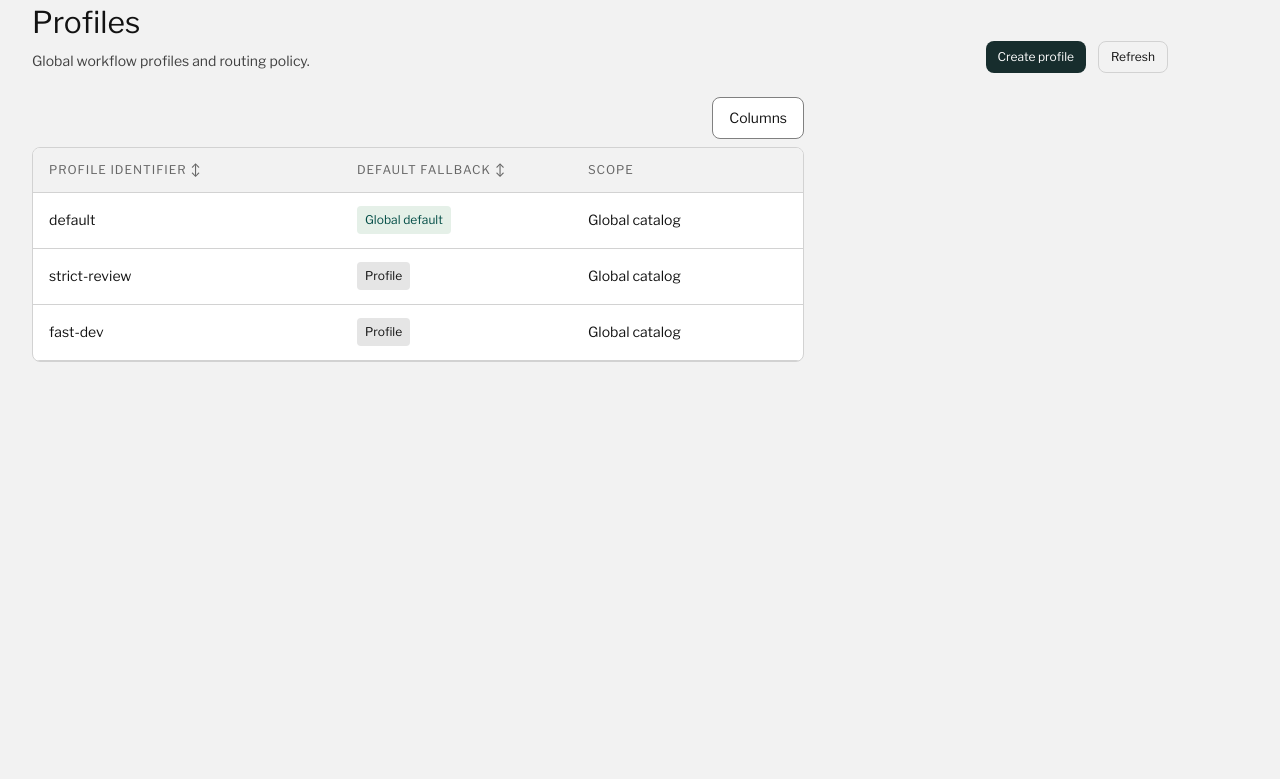
it: Profiles screen › opens profile editor in edit mode with immutable identifier and preserves inherited policies
Expected: the text "fast-dev" is shown, [49,323,104,340]
Click row to select and open Inspector
Click the text "fast-dev". click: click(418, 332)
box: [33,304,803,360]
(page scrolled)
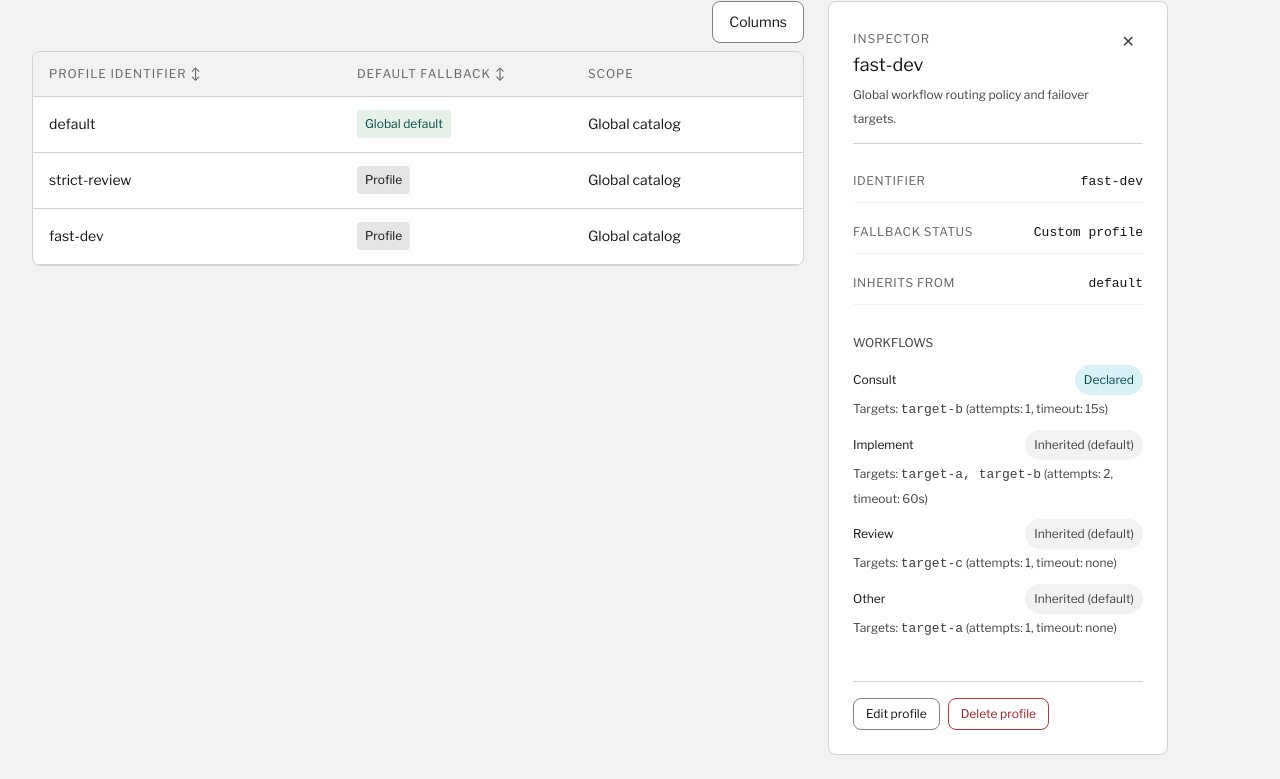
Click the button "Edit profile". click: click(896, 714)
box: [853,698,940,730]
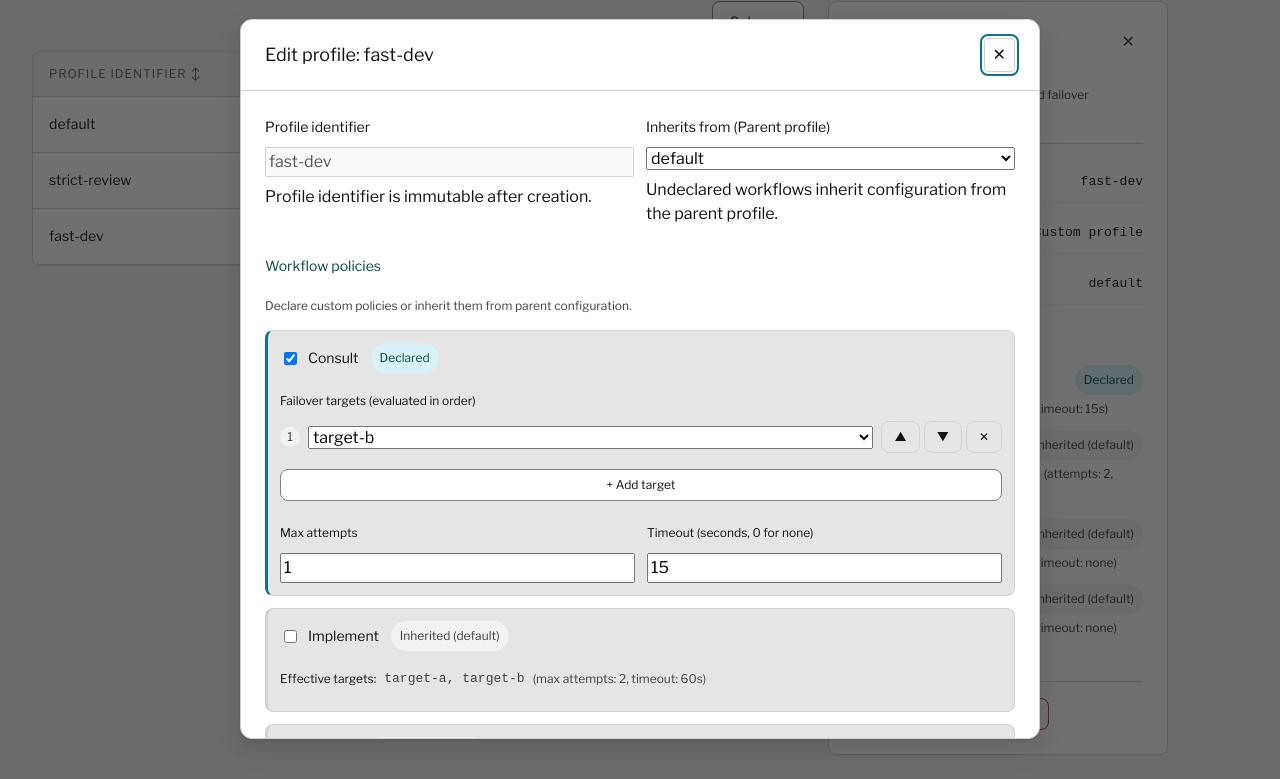
Expected: the dialog "Edit profile: fast-dev" is shown, [240,19,1040,739]
Expected: the field labelled "Profile identifier" is disabled, [265,147,634,177]
Expected: the field labelled "Profile identifier" holds "fast-dev", [265,147,634,177]
Change parent to None
Select "(None - base profile)" in the dropdown labelled "Inherits from (Parent profile)". click: (830, 158)
box: [646,147,1015,170]
(page scrolled)
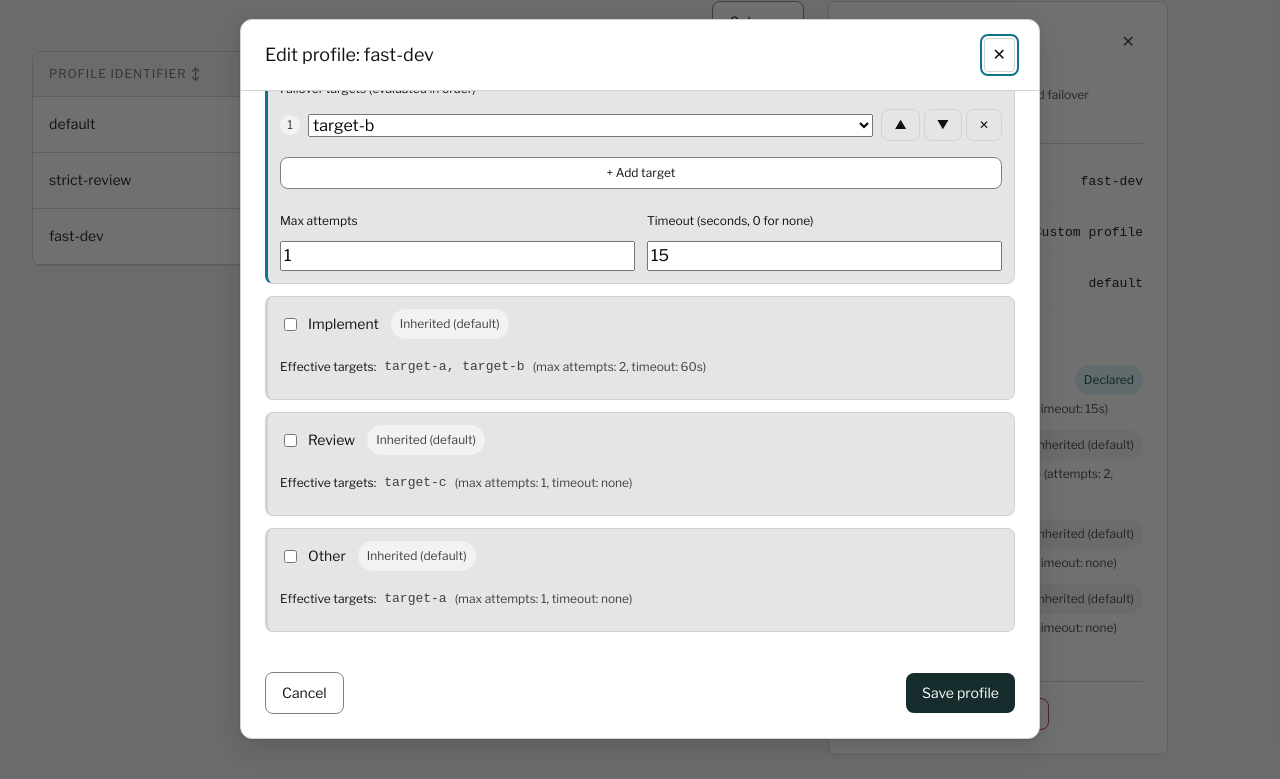
Click the button "Save profile". click: click(960, 693)
box: [906,673,1015,713]
(page scrolled)
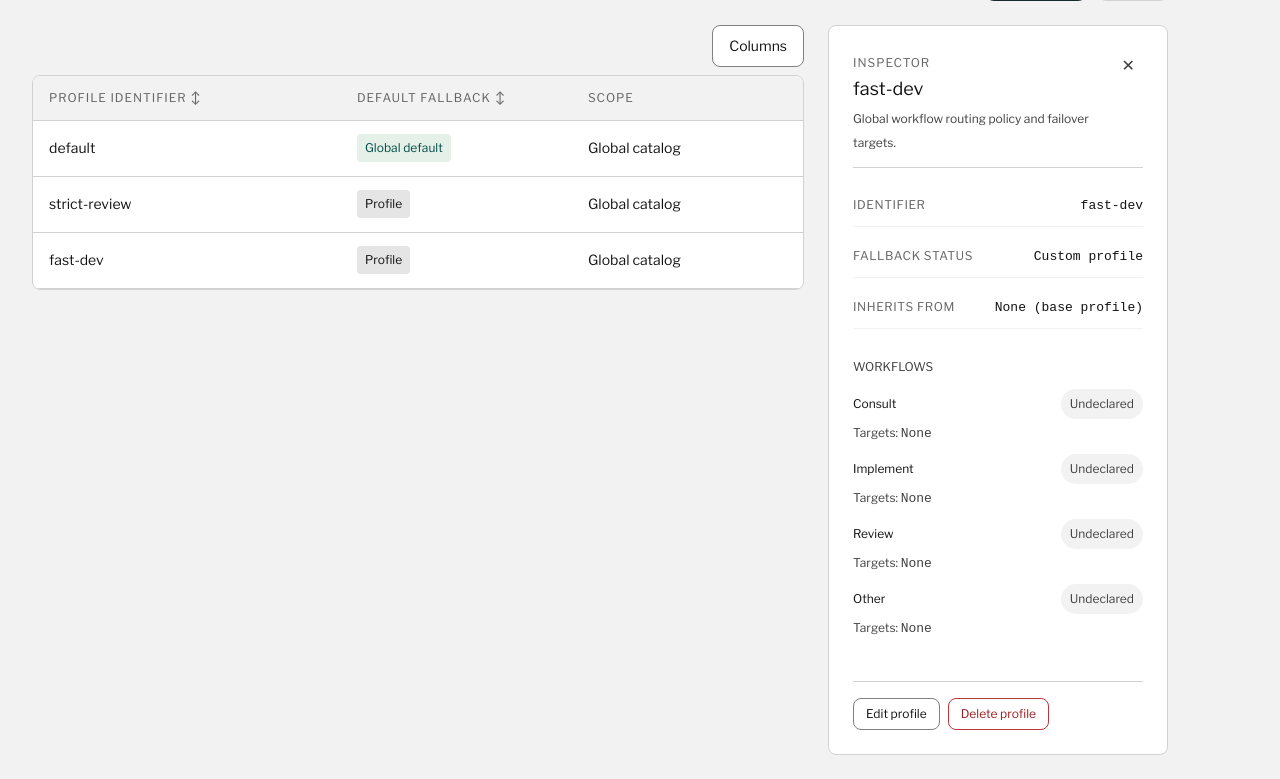
Expected: the dialog is gone
